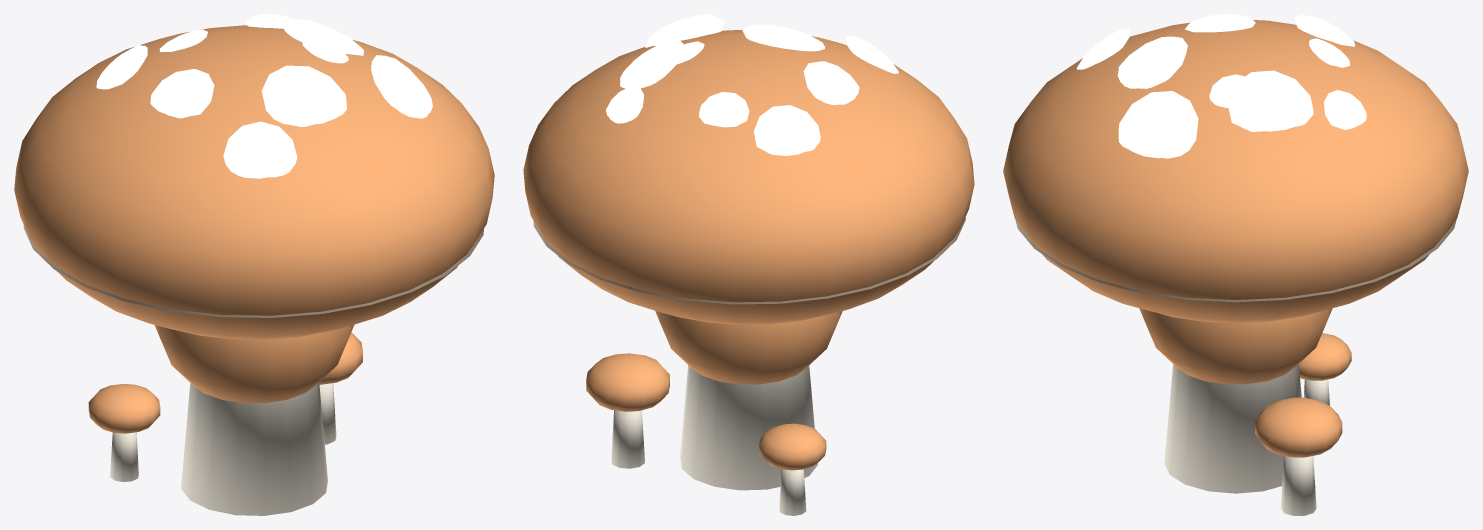
Rendered from boomshroom.glb.
The picture shows the model from 3 angles, left to right: view 1: azimuth 30°, elevation 25°; view 2: azimuth 150°, elevation 25°; view 3: azimuth 270°, elevation 25°; orthographic projection. The views are drawn at different scales.
Parts seen in each view (by area): view 1: boomshroom_Cap_mesh, boomshroom_s2_body, boomshroom_s1_body; view 2: boomshroom_Cap_mesh, boomshroom_s2_body, boomshroom_s1_body; view 3: boomshroom_Cap_mesh, boomshroom_s2_body, boomshroom_s1_body.
Part boxes in pixels (x1,y1,x2,y2): boomshroom_Cap_mesh: (14, 14, 494, 339); boomshroom_s2_body: (88, 332, 362, 515); boomshroom_s1_body: (154, 325, 354, 403); boomshroom_Cap_mesh: (523, 14, 974, 324); boomshroom_s2_body: (586, 353, 826, 515); boomshroom_s1_body: (655, 311, 842, 384); boomshroom_Cap_mesh: (1003, 14, 1468, 323); boomshroom_s2_body: (1164, 333, 1351, 515); boomshroom_s1_body: (1139, 308, 1332, 384).
Bounding box in the file's own units: 1.04 × 1.04 × 1.04.
